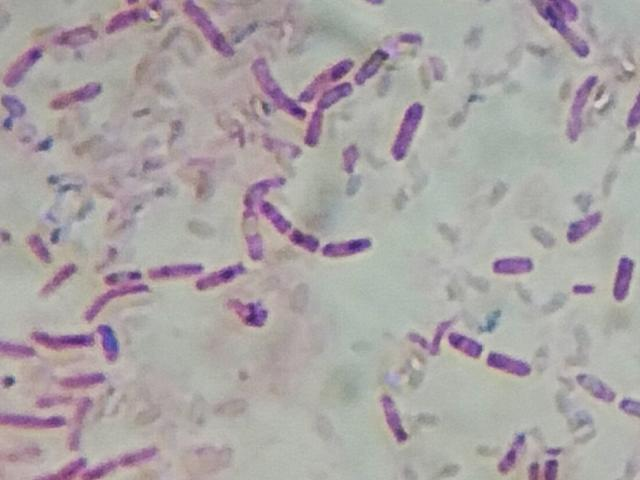E. coli: (533, 0, 596, 55), (252, 53, 301, 121), (562, 65, 600, 146), (80, 443, 161, 480), (183, 3, 230, 62), (89, 283, 151, 321), (372, 387, 414, 443), (393, 96, 423, 166), (318, 235, 384, 265), (36, 260, 88, 298), (241, 203, 270, 270), (55, 79, 110, 113), (53, 362, 119, 390), (31, 322, 88, 353), (113, 0, 158, 39), (2, 410, 63, 437), (488, 247, 535, 281), (482, 350, 533, 379), (5, 39, 40, 81), (575, 370, 613, 408), (302, 103, 327, 154), (303, 55, 345, 85), (201, 263, 247, 289), (500, 425, 522, 479), (71, 393, 92, 449), (318, 82, 354, 114), (611, 253, 633, 305), (249, 170, 290, 197), (358, 46, 387, 83), (452, 322, 485, 354), (568, 209, 602, 240), (149, 262, 207, 280), (619, 387, 640, 433), (25, 229, 52, 263), (102, 265, 143, 285), (541, 451, 568, 480), (338, 139, 360, 174), (266, 202, 296, 227), (49, 453, 79, 478), (623, 84, 640, 126), (59, 20, 87, 43), (293, 227, 319, 251), (36, 389, 65, 407), (2, 336, 28, 355)
